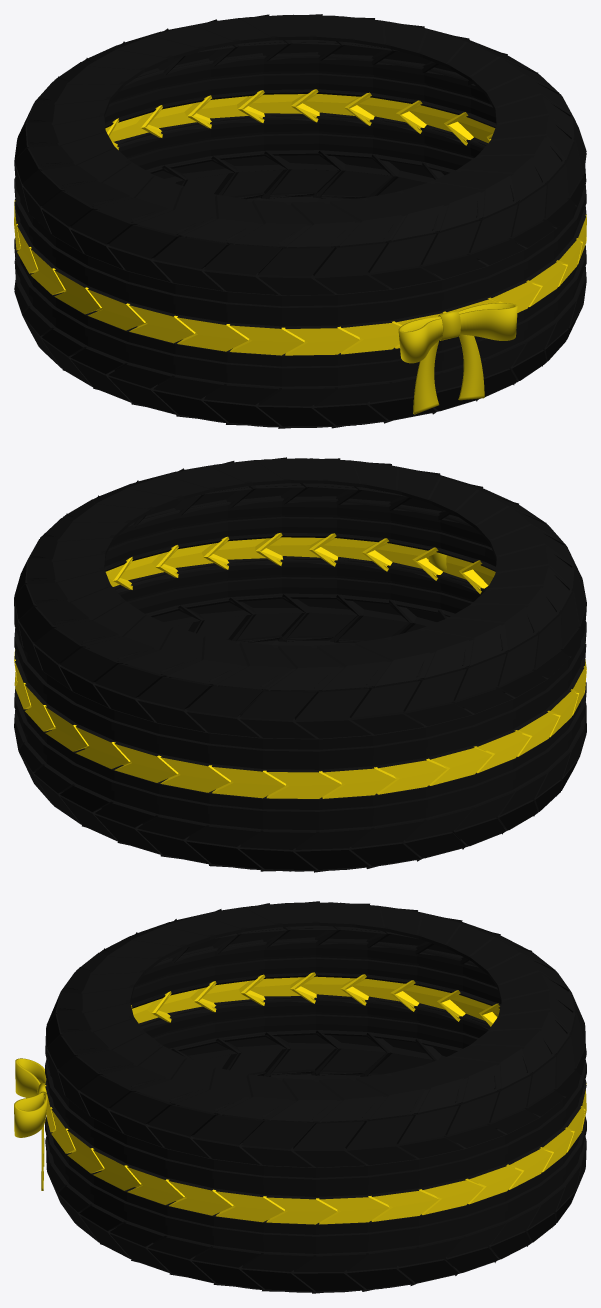
File: YellowCarBox.fbx
The picture shows the model from 3 angles, top to bottom: view 1: azimuth 30°, elevation 25°; view 2: azimuth 150°, elevation 25°; view 3: azimuth 270°, elevation 25°; orthographic projection. The views are drawn at different scales.
Parts seen in each view (by area): view 1: Tire.004, Bow.002; view 2: Tire.004; view 3: Tire.004, Bow.002.
Part boxes in pixels (bbox=[...]): Tire.004: bbox=[14, 14, 586, 428]; Bow.002: bbox=[398, 303, 517, 414]; Tire.004: bbox=[14, 457, 586, 872]; Tire.004: bbox=[45, 901, 586, 1293]; Bow.002: bbox=[14, 1058, 47, 1190].
Size of the model in its own units: 200 by 78.46 by 211.
